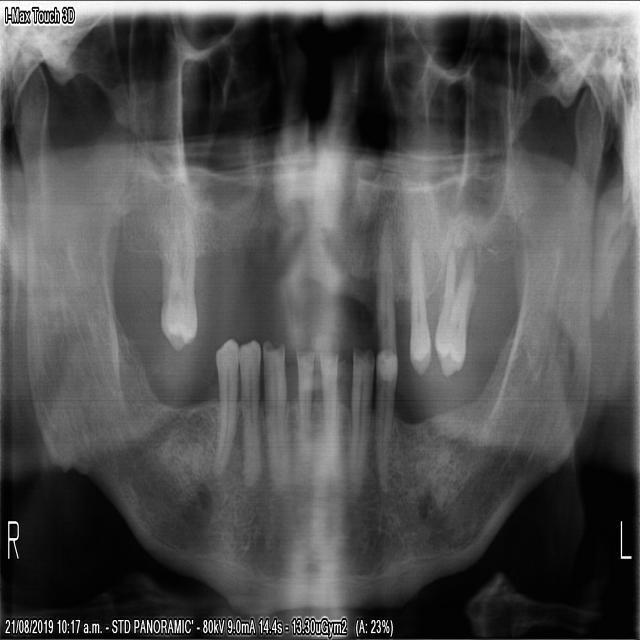LCD: (373, 344, 399, 497)
LID: (348, 341, 372, 482), (319, 347, 337, 461)
LIU: (375, 219, 397, 343)
LMU: (432, 248, 476, 377)
LPMU: (406, 246, 431, 376)
RCD: (237, 332, 261, 484)
RID: (261, 330, 286, 456), (295, 351, 314, 442)
RMU: (158, 227, 197, 350)
RPMD: (209, 334, 238, 482)
